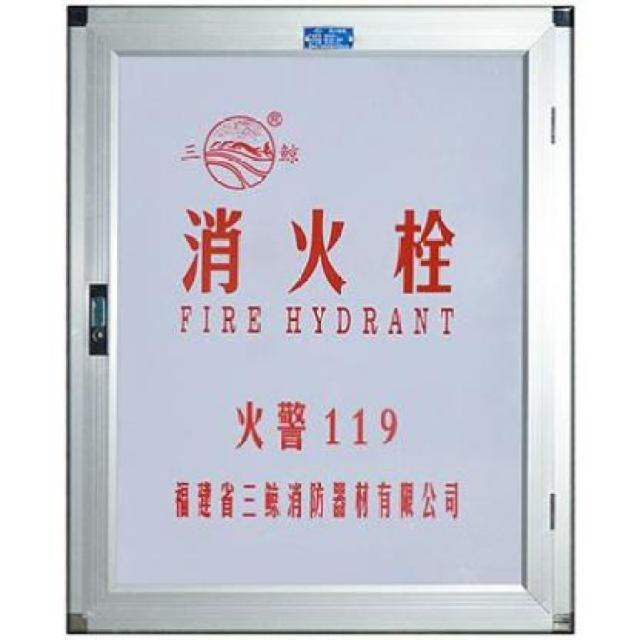firehydrant: (60, 0, 582, 640)
